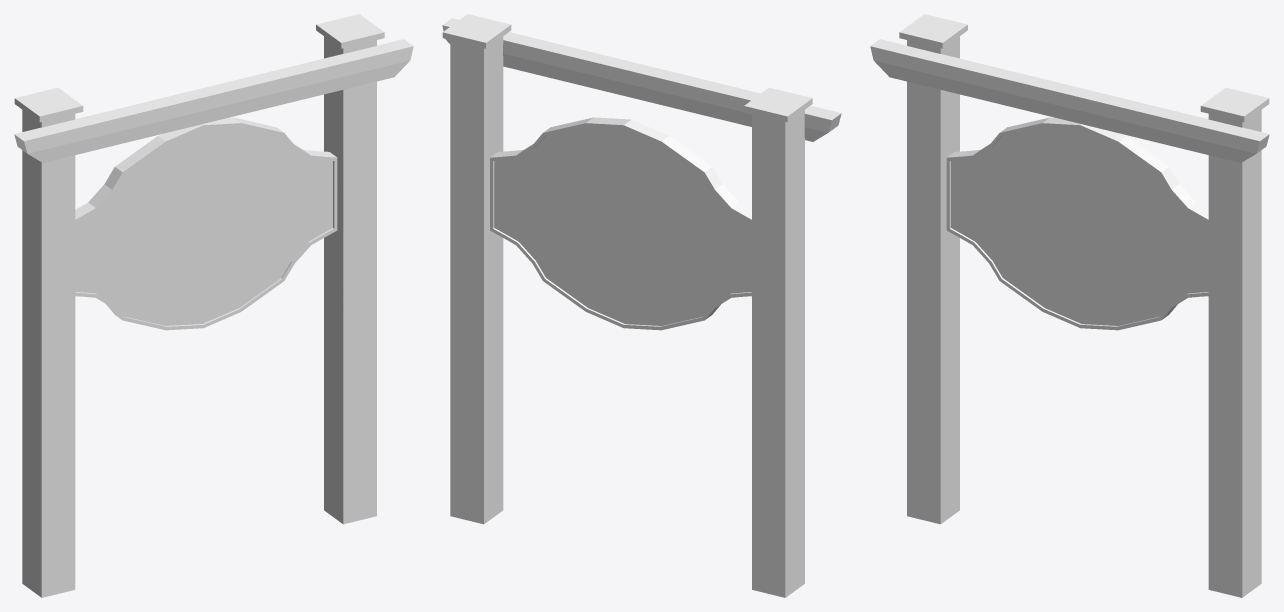
The model's file is Bld_Farm_Sign_03.glb.
3 views of the same model, side by side, from view 1: azimuth 30°, elevation 25°; view 2: azimuth 150°, elevation 25°; view 3: azimuth 330°, elevation 25° (orthographic).
Visible parts, largest first — view 1: Bld_Farm_Sign_03; view 2: Bld_Farm_Sign_03; view 3: Bld_Farm_Sign_03.
Part boxes in pixels (x1=…): Bld_Farm_Sign_03: x1=14, y1=14, x2=413, y2=597; Bld_Farm_Sign_03: x1=442, y1=14, x2=841, y2=597; Bld_Farm_Sign_03: x1=870, y1=14, x2=1269, y2=597.
Size of the model in its own units: 1.79 by 2.13 by 0.2536.
1 material, 1 textured.
